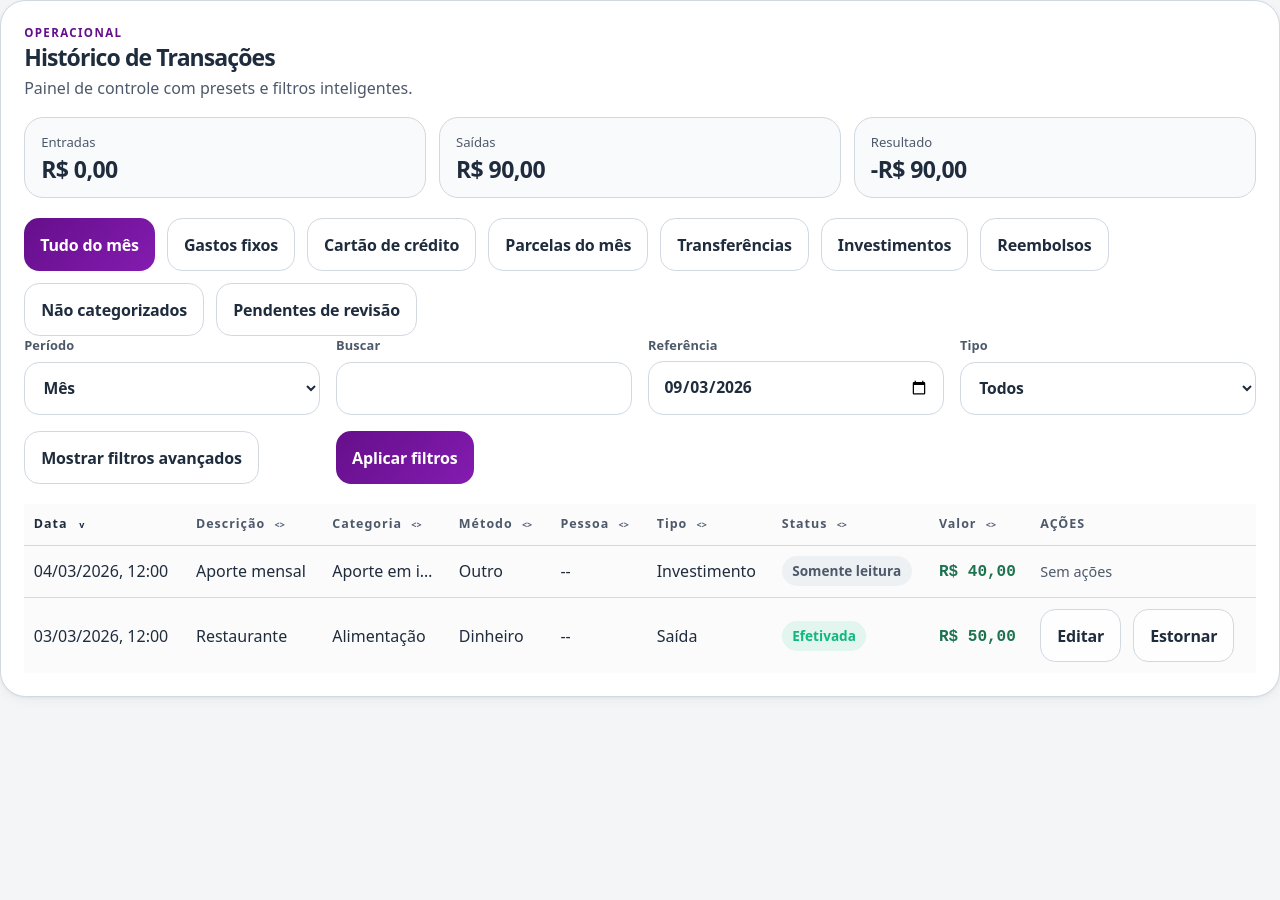
Test case: TransactionsView copy › shows investment ledger labels and allows filtering by investment type
The width and height of the screenshot is (1280, 900).
Check: the cell "Investimento" is shown, box left=647, top=546, right=772, bottom=598
Check: the cell "Somente leitura" is shown, box left=772, top=546, right=929, bottom=598
Select "Investimentos" in the dropdown named "tipo do filtro" at (1108, 388), box left=960, top=362, right=1256, bottom=415
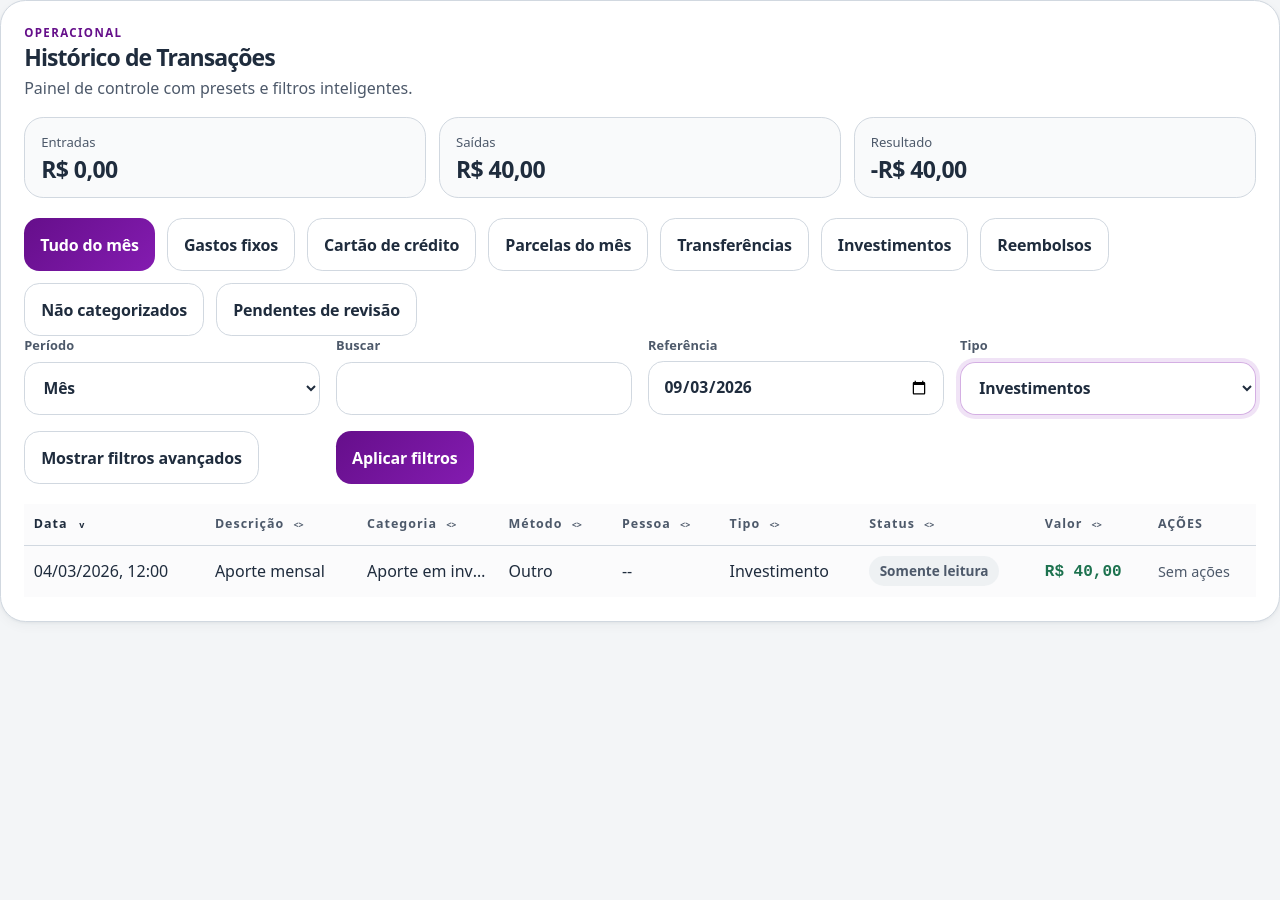
Check: the text "Aporte mensal" is shown, box left=205, top=546, right=358, bottom=597
Check: the text "Restaurante" is gone
